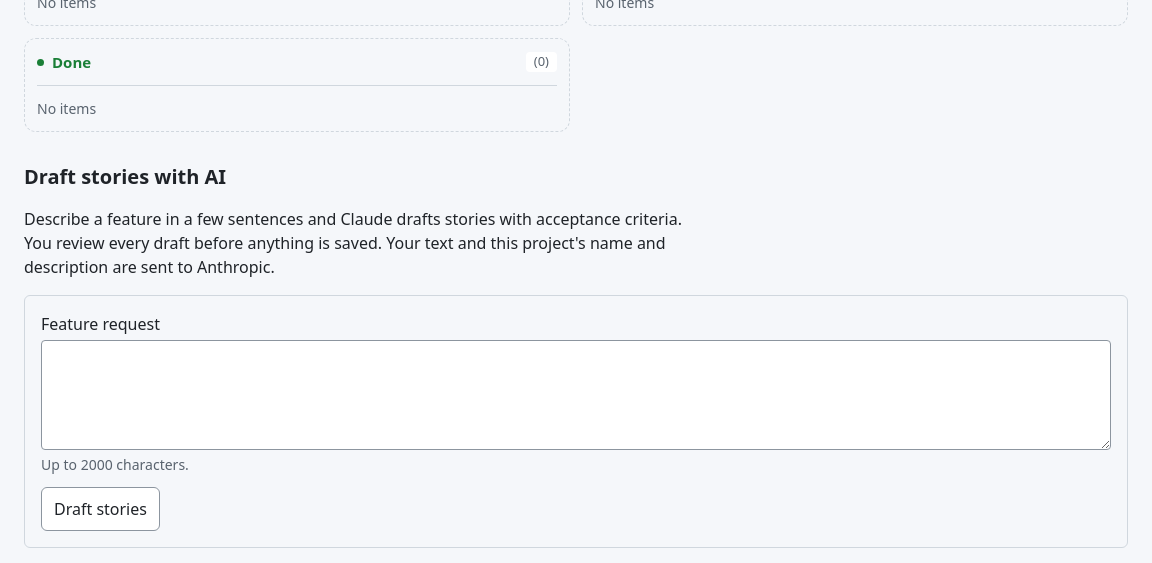
Test case: AI story drafter › drafts stories, lets you edit and discard them, and saves only what you add
This screenshot has width=1152, height=563.
(page scrolled)
In the text box labelled "Feature request": (576, 395) [41, 340, 1111, 450], type "Riders want to save and share gear setups"
Click the button "Draft stories": (100, 509) [41, 487, 160, 531]
(page scrolled)
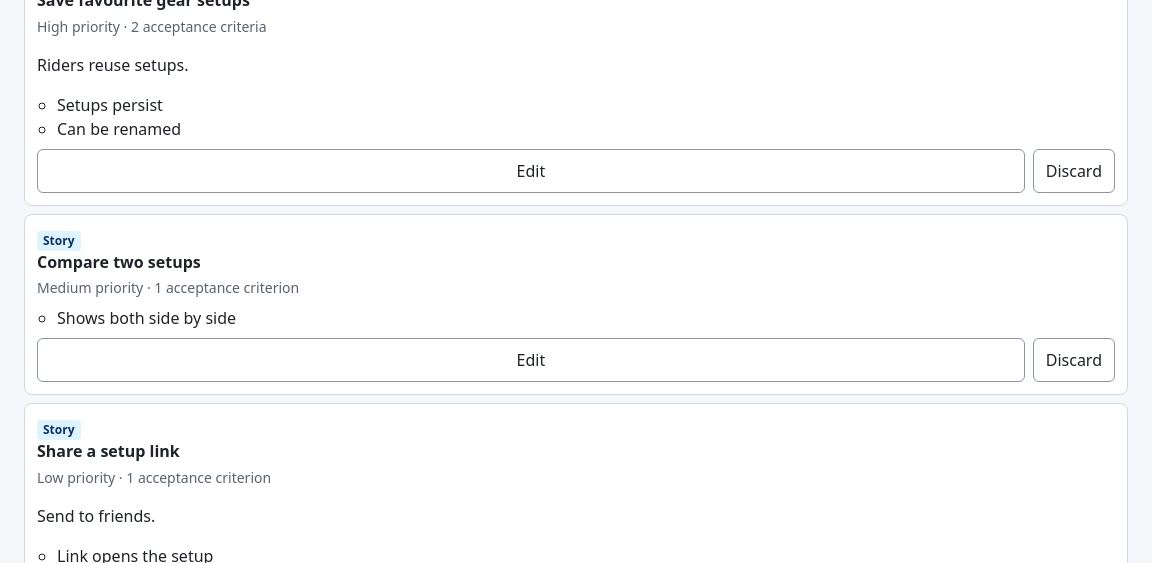
Click the button with aria-label "Edit draft Compare two setups": (531, 360) [37, 338, 1025, 382]
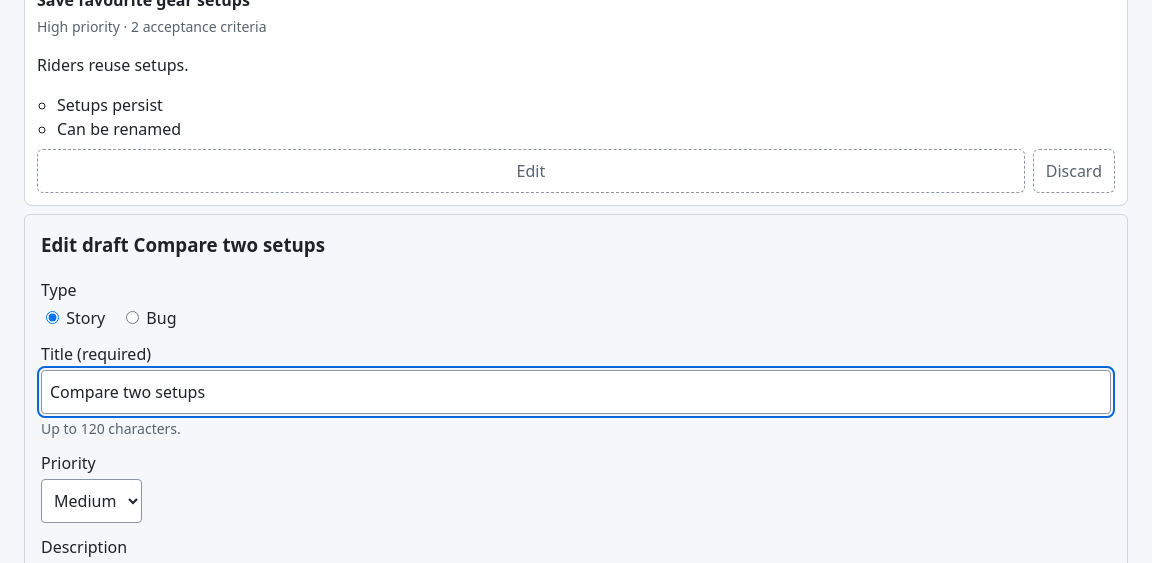
Replace the text in the field labelled "Title (required)" with "Compare setups side by side": (576, 392) [41, 370, 1111, 414]
Click the radio button labelled "Bug": (133, 317) [126, 311, 139, 324]
(page scrolled)
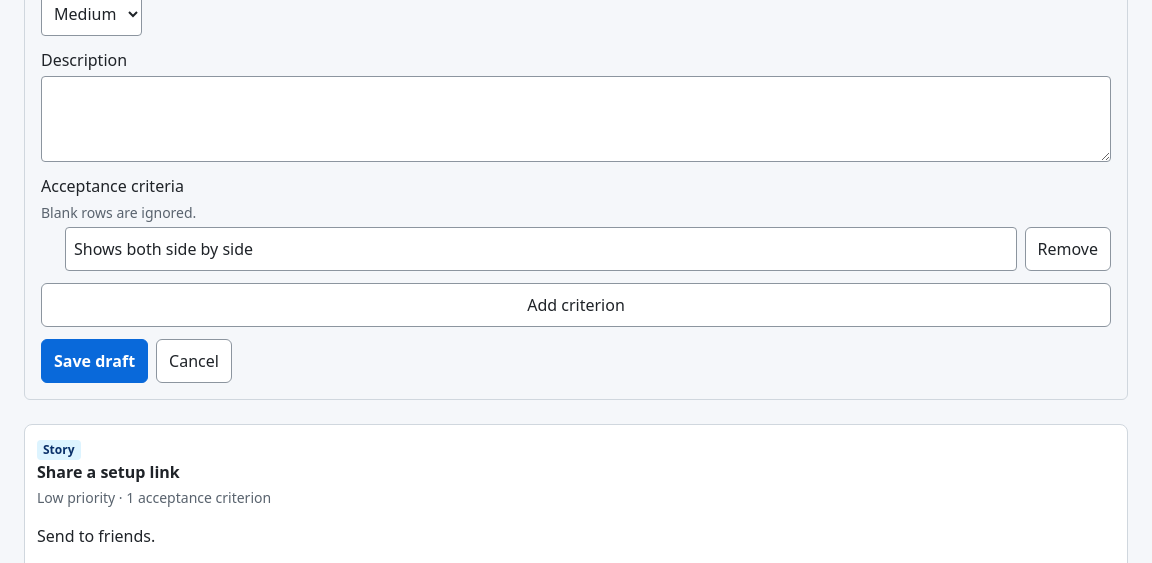
Click the button "Save draft": (95, 361) [41, 339, 148, 383]
(page scrolled)
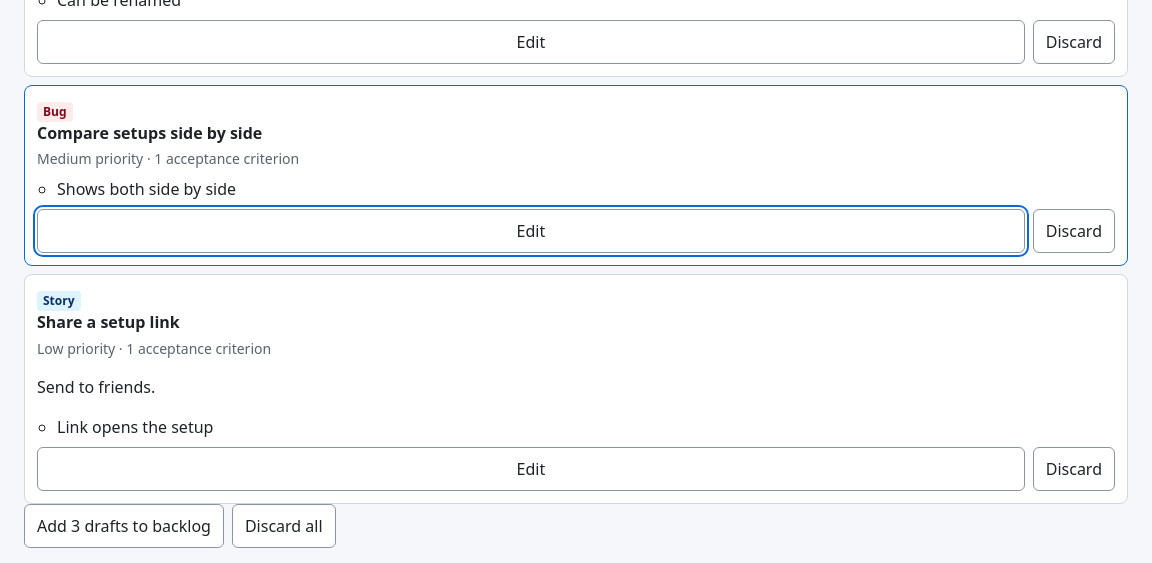
Click the button with aria-label "Discard draft Share a setup link": (1074, 469) [1033, 447, 1115, 491]
(page scrolled)
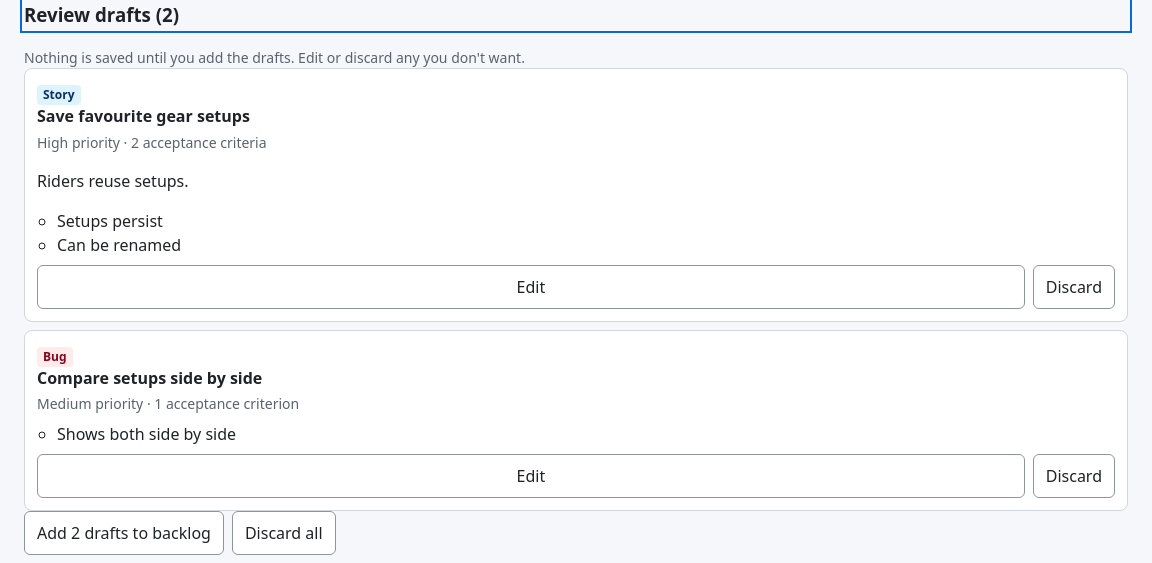
Click the button "Add 2 drafts to backlog": (124, 533) [24, 511, 224, 555]
(page scrolled)
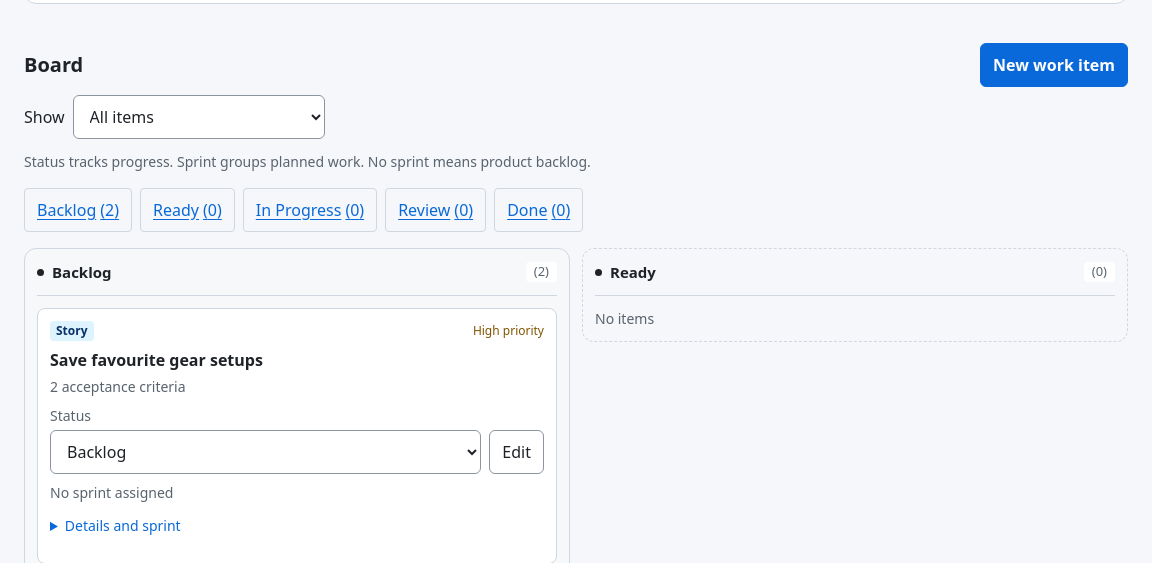
Result: the heading "Save favourite gear setups" is shown at [50, 349, 263, 371]
Result: the heading "Review drafts" is gone
